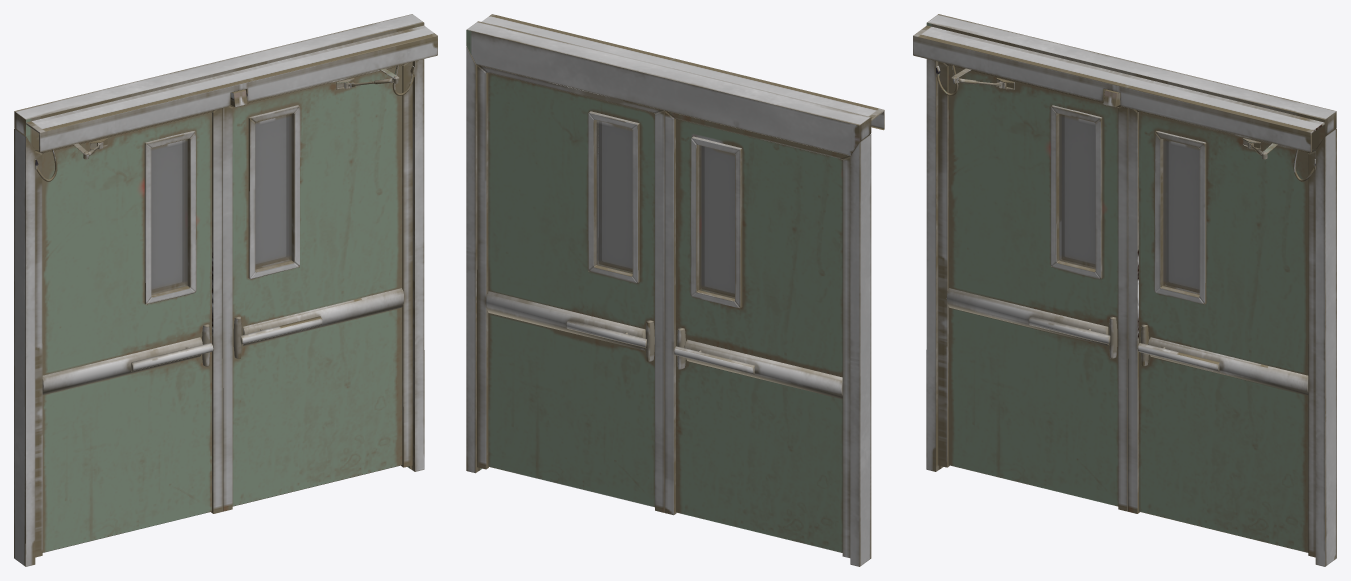
File: hospitaldoor_double.glb
3 renders of one model, left to right at view 1: azimuth 30°, elevation 25°; view 2: azimuth 150°, elevation 25°; view 3: azimuth 330°, elevation 25°, orthographic.
Parts seen in each view (by area): view 1: Door, Doorframeextern, DoorframeInterne, DoorBordure, Doorglasses, Handel, Window frame, DoorverinAliminum; view 2: Door, Doorframeextern, DoorframeInterne, Doorglasses, Handel, Window frame, DoorBordure; view 3: Door, Doorframeextern, DoorframeInterne, DoorBordure, Doorglasses, Handel, Window frame, DoorverinAliminum.
Part boxes in pixels (x1,y1,x2,y2): Door: (42,66,402,552); Doorframeextern: (14,14,424,566); DoorframeInterne: (35,62,412,557); DoorBordure: (26,25,437,152); Doorglasses: (151,114,291,294); Handel: (42,288,404,394); Window frame: (144,105,300,304); DoorverinAliminum: (73,68,399,159); Door: (488,73,842,552); Doorframeextern: (466,21,871,566); DoorframeInterne: (477,65,850,557); Doorglasses: (596,120,734,298); Handel: (485,291,842,398); Window frame: (588,111,742,308); DoorBordure: (481,14,884,130); Door: (948,66,1308,552); Doorframeextern: (926,14,1336,566); DoorframeInterne: (938,62,1315,557); DoorBordure: (913,25,1324,152); Doorglasses: (1059,114,1199,294); Handel: (946,288,1308,394); Window frame: (1050,105,1206,304); DoorverinAliminum: (951,68,1277,159).
Bounding box in the file's own units: 3.05 × 3.27 × 0.4358.
11 materials, 11 textured.
